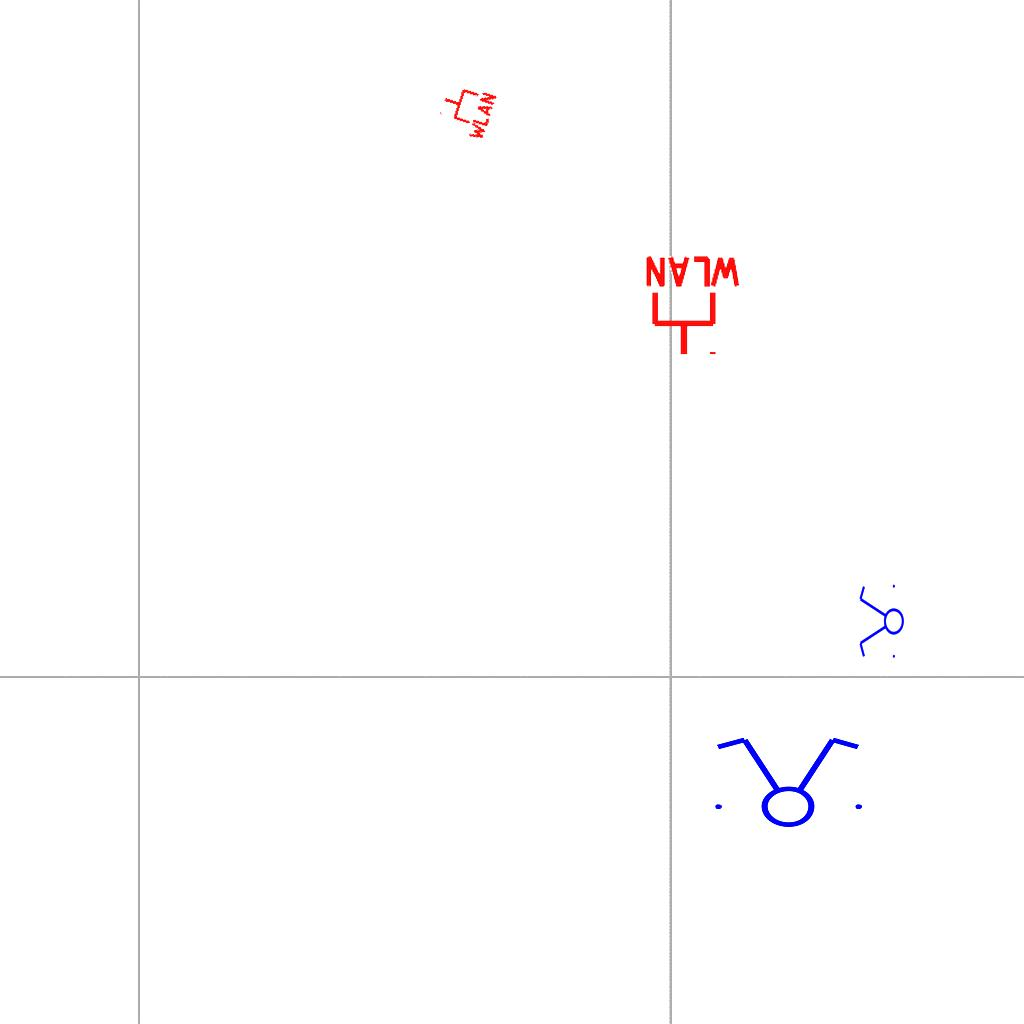Serienschalter: (703, 733, 871, 829), (857, 580, 905, 664)
WLAN: (641, 254, 745, 359), (433, 78, 499, 144)
